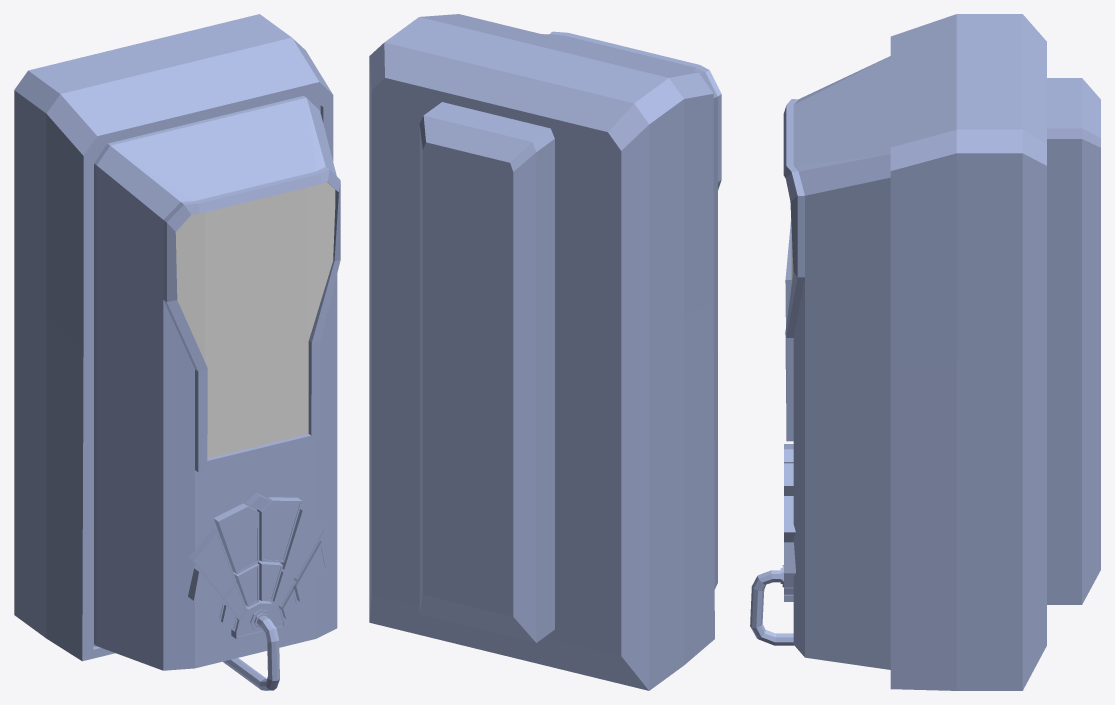
The model's file is SM_CryoChamber.fbx.
3 renders of one model, left to right at view 1: azimuth 30°, elevation 25°; view 2: azimuth 150°, elevation 25°; view 3: azimuth 270°, elevation 25°, orthographic. The views are drawn at different scales.
Parts seen in each view (by area): view 1: Cube.028; view 2: Cube.028; view 3: Cube.028.
Part boxes in pixels (bbox=[...]): Cube.028: bbox=[14, 14, 340, 690]; Cube.028: bbox=[369, 14, 721, 690]; Cube.028: bbox=[750, 14, 1100, 690].
Size of the model in its own units: 232 by 479 by 266.
